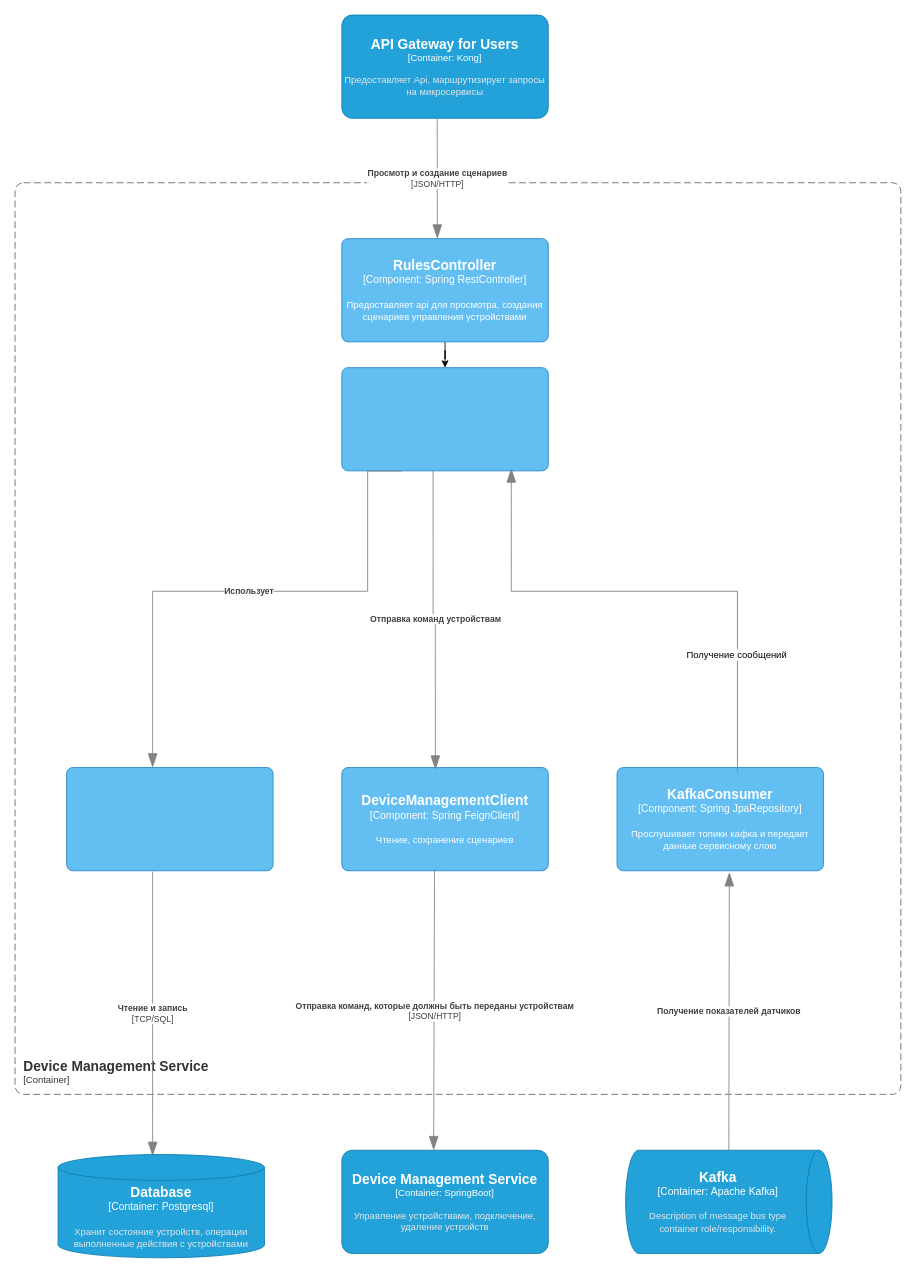
This 916x1273 diagram has some shape labels left out. Here are the shapes that lost their labels. From the top down, the centre of each, then its label:
the point at 444,419: RulesService [Component: Spring bean] Сервис управления сценариями
the point at 169,819: RulesRepository [Component: Spring JpaRepository] Чтение, сохранение сценариев
